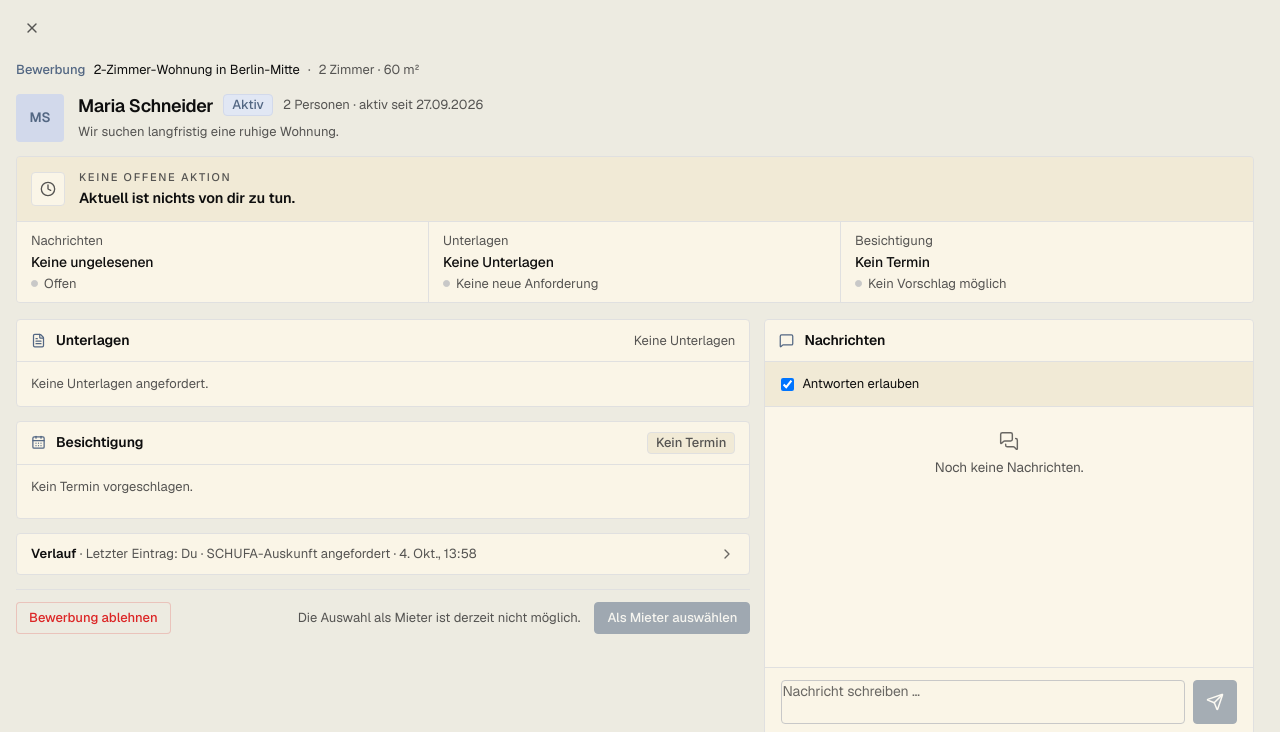
Test: activity list collapse › expands the timeline and collapses it back to the latest summary
This screenshot has width=1280, height=732.
Click the button "Letzter Eintrag" at (383, 554), box [17,534,749,574]
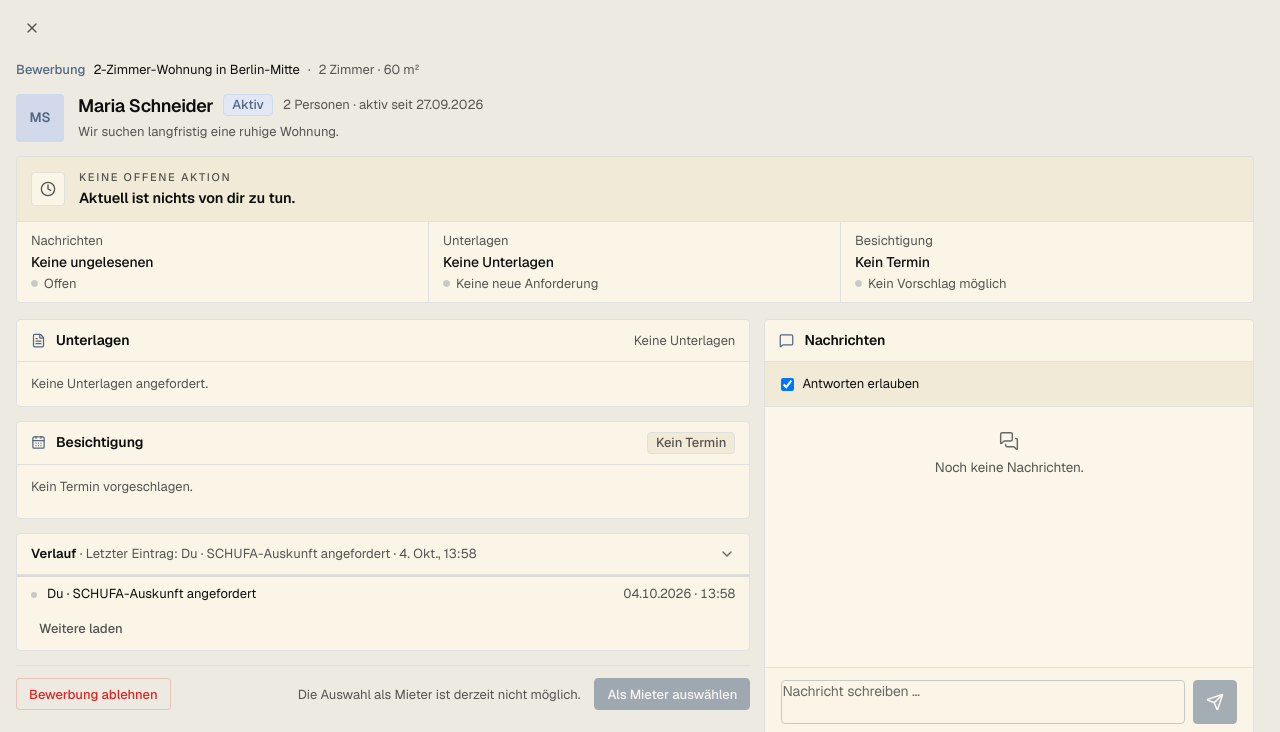
Click the button "Weitere laden" at (81, 628), box [27,612,135,644]
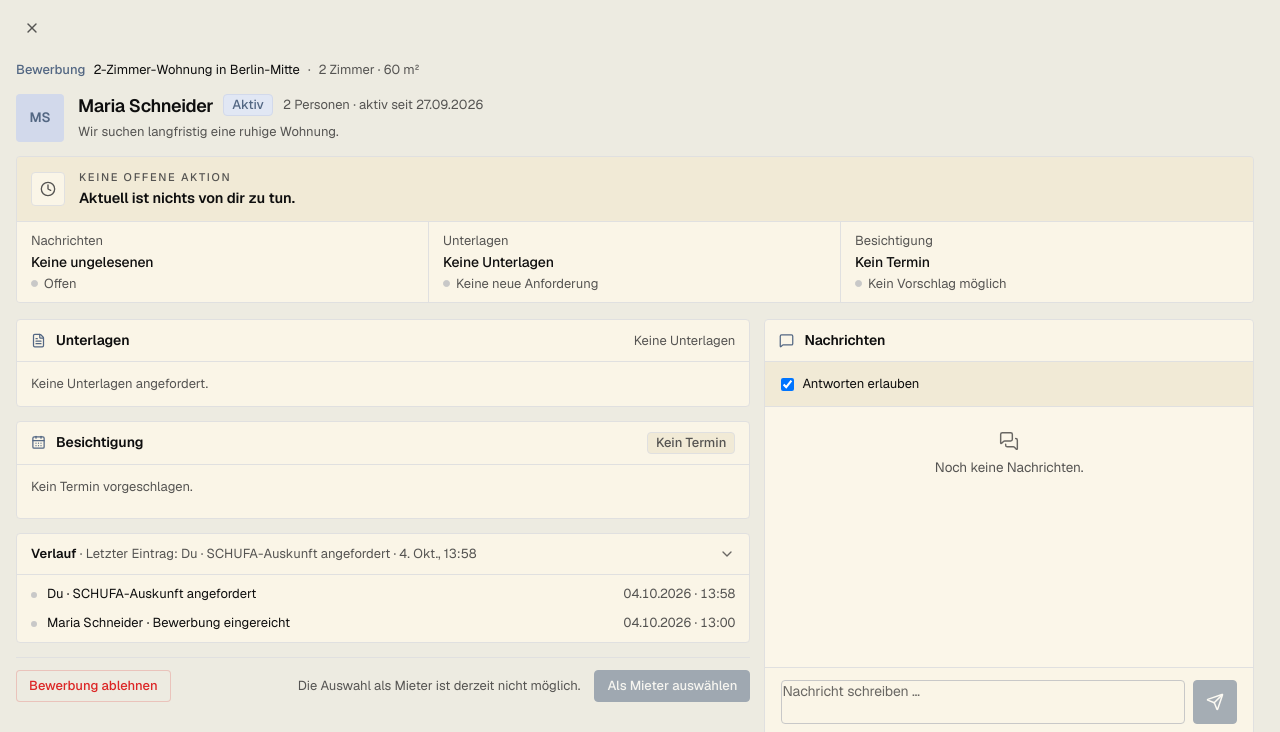
Check: the text "Maria Schneider · Bewerbung eingereicht" is shown, box [47,614,290,632]
Click the button "Letzter Eintrag" at (383, 554), box [17,534,749,574]
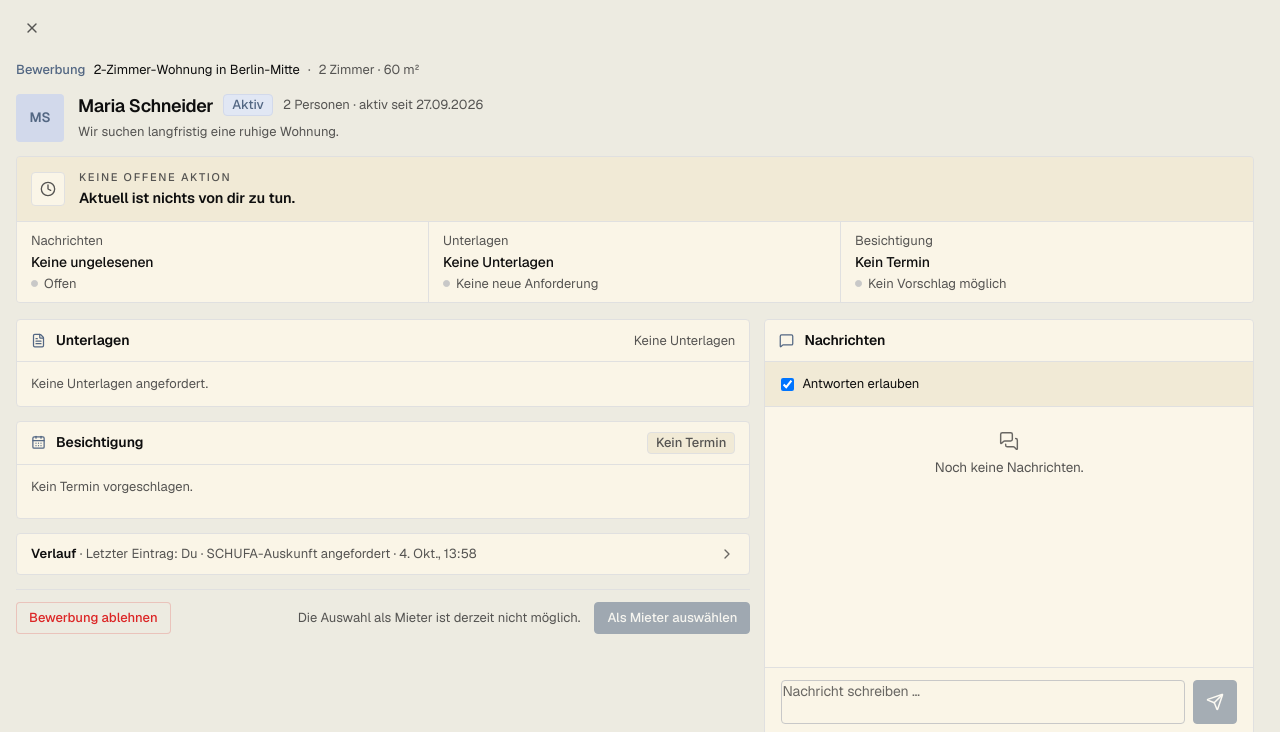
Check: the button "Weitere laden" is not shown
Check: the button "Letzter Eintrag" is collapsed, box [17,534,749,574]
Check: the text "Maria Schneider · Bewerbung eingereicht" is gone
